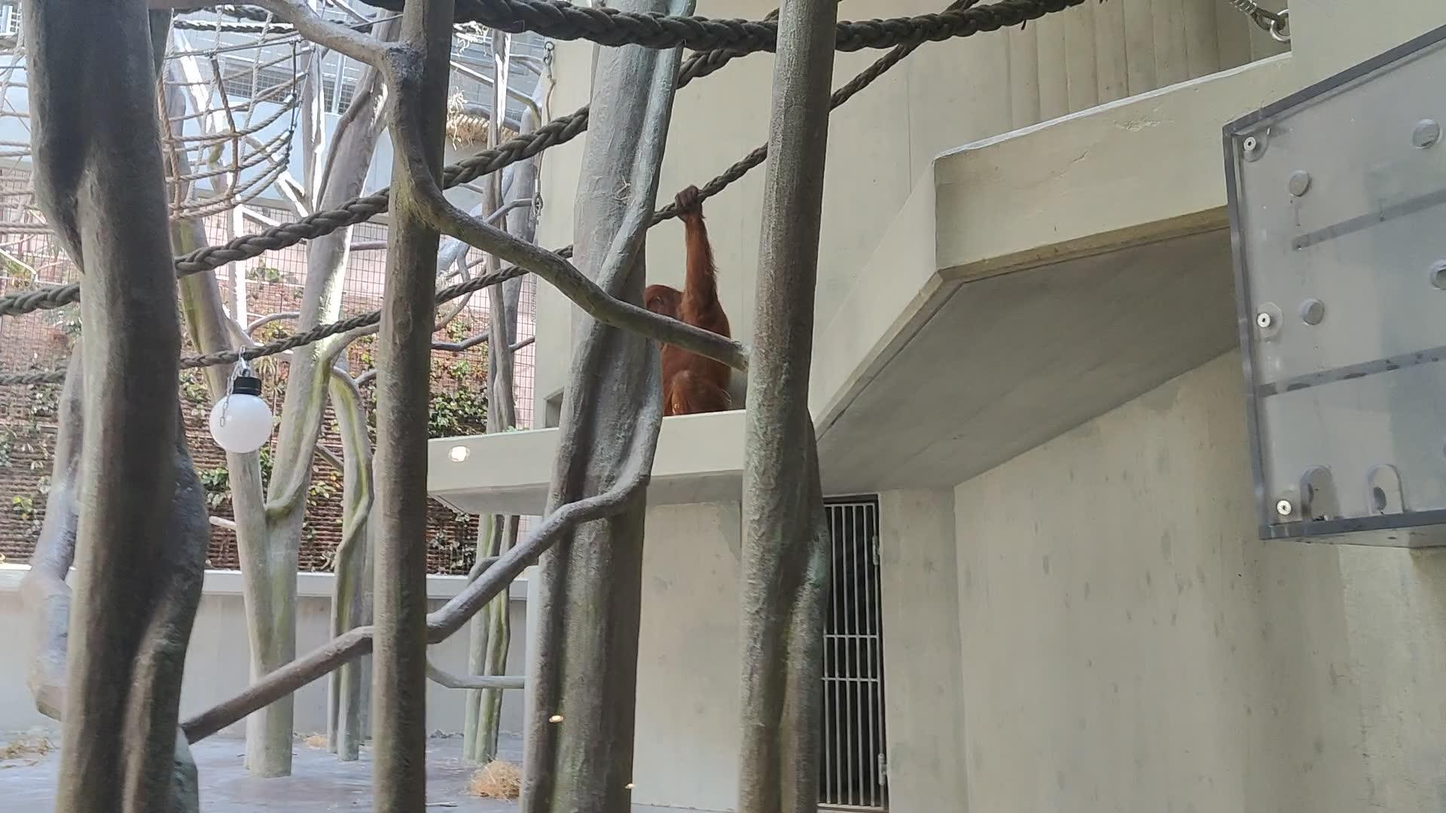boar: (644, 184, 731, 417)
